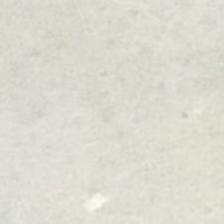Non_Crack: (28, 19, 197, 188)
